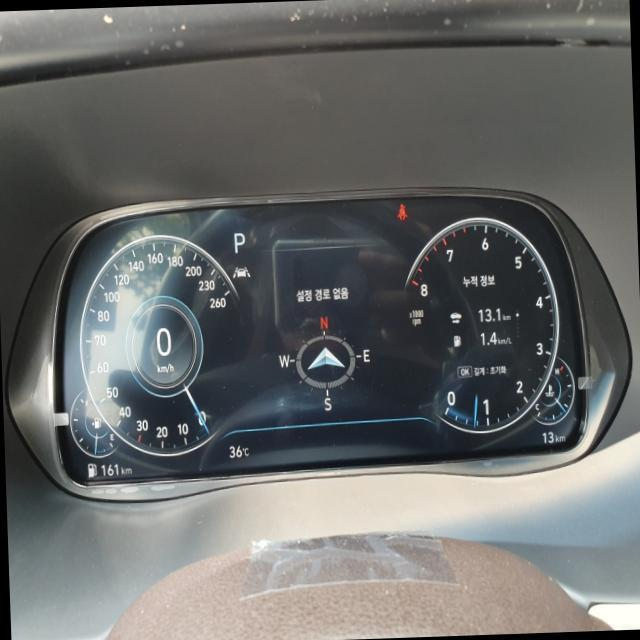LaneCenteringOff: (231, 264, 249, 278)
